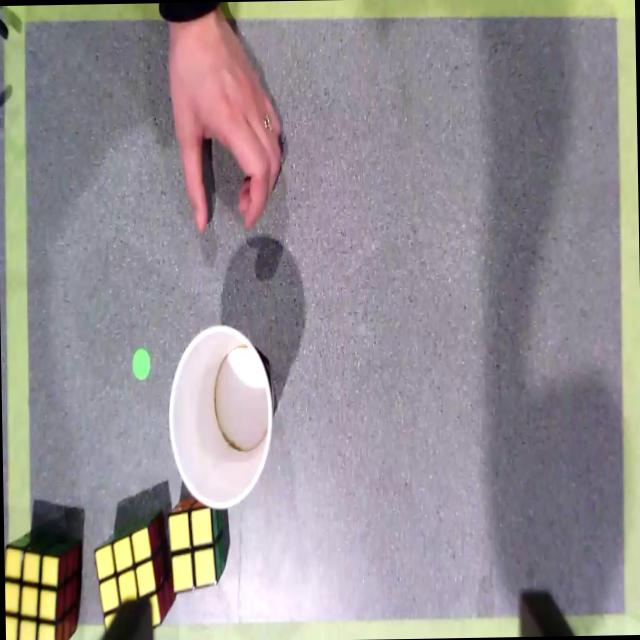cube2-yellow: (168, 506, 217, 592)
cube3-yellow: (94, 527, 161, 640), (4, 547, 58, 640)
